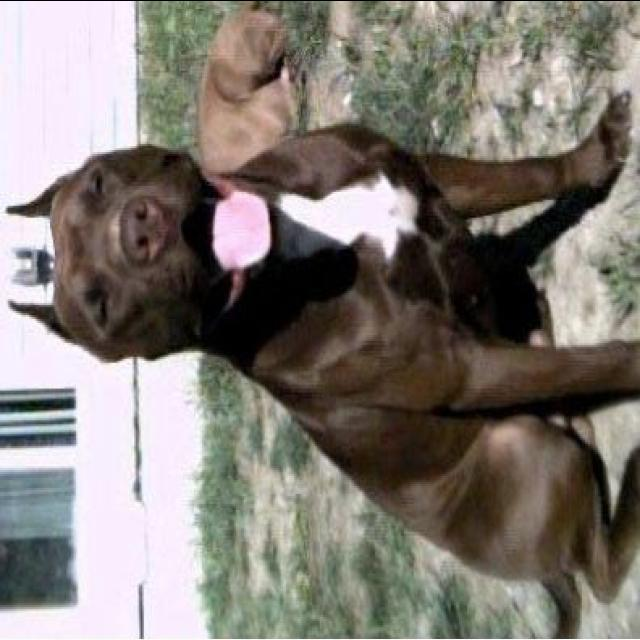staffordshire_bullterrier: (4, 83, 638, 638), (196, 0, 300, 181)
